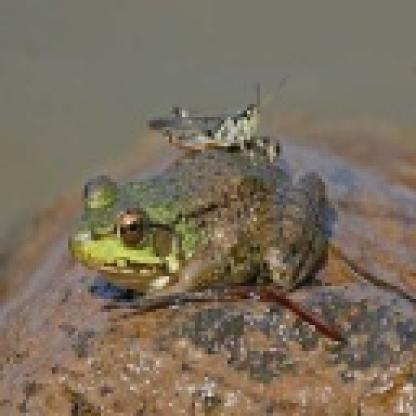grasshopper: (144, 88, 272, 152)
